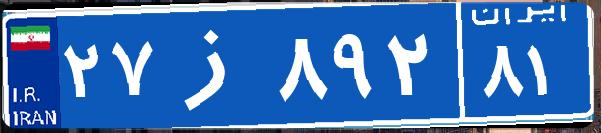1: (525, 38, 570, 115)
2: (385, 28, 445, 110), (57, 26, 110, 107)
7: (110, 28, 158, 105)
8: (273, 28, 330, 110), (475, 38, 525, 113)
9: (330, 28, 385, 110)
ز: (158, 15, 273, 115)
